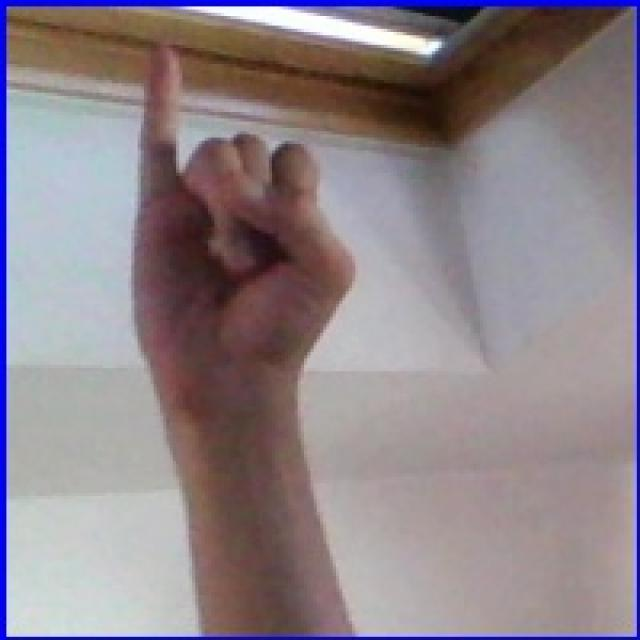Letra I: (105, 18, 392, 472)
